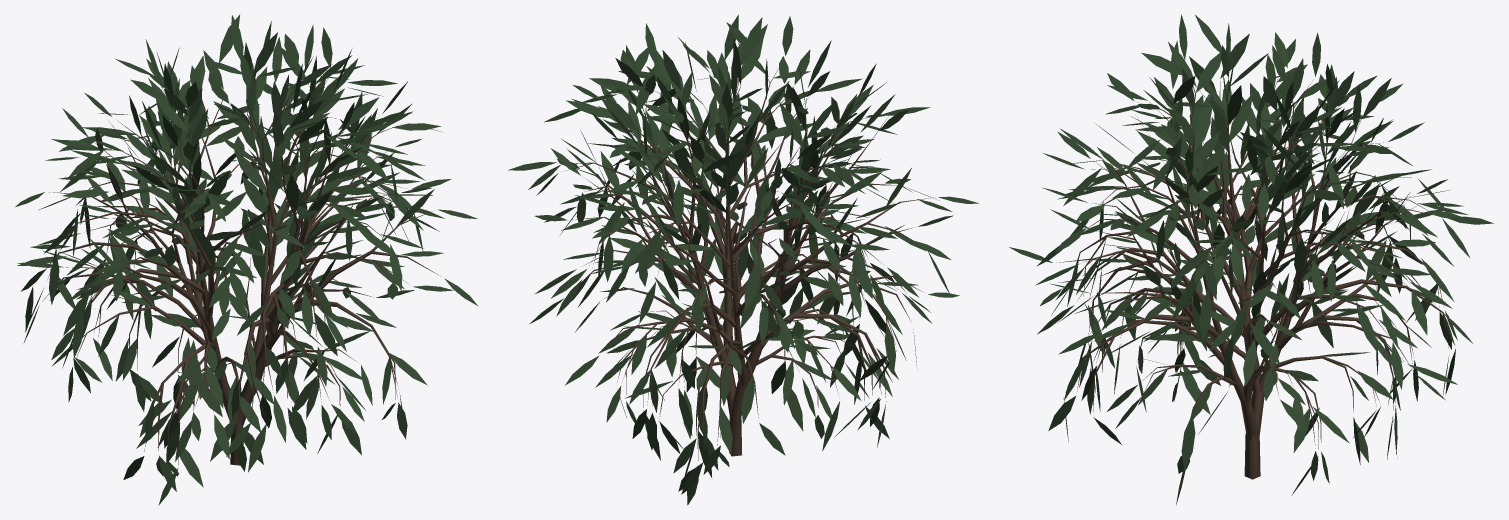
Rendered from Tree_04.fbx.
3 views of the same model, side by side, from view 1: azimuth 30°, elevation 25°; view 2: azimuth 150°, elevation 25°; view 3: azimuth 270°, elevation 25° (orthographic). The views are drawn at different scales.
Parts seen in each view (by area): view 1: leaves_04, Tree_04; view 2: leaves_04, Tree_04; view 3: leaves_04, Tree_04.
Boxes of the visible parts, bbox=[...] form: leaves_04: bbox=[15, 14, 477, 505]; Tree_04: bbox=[36, 71, 441, 465]; leaves_04: bbox=[508, 14, 978, 505]; Tree_04: bbox=[561, 61, 935, 460]; leaves_04: bbox=[1009, 14, 1493, 504]; Tree_04: bbox=[1056, 68, 1454, 479].
Bounding box in the file's own units: 351 × 341 × 352.
